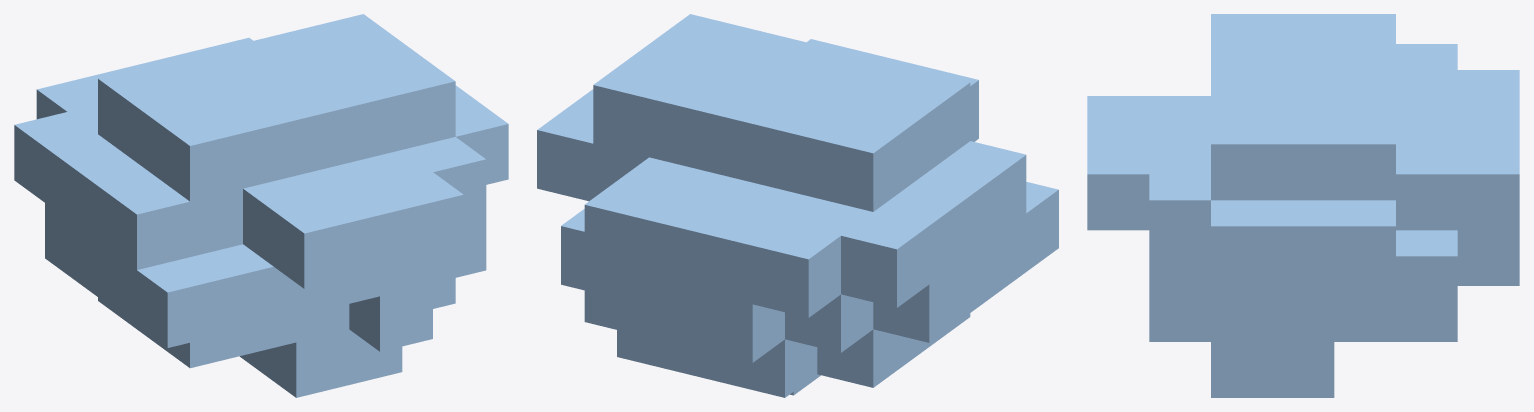
File: ttat.obj
3 views of the same model, side by side, from view 1: azimuth 30°, elevation 25°; view 2: azimuth 150°, elevation 25°; view 3: azimuth 270°, elevation 25° (orthographic). The views are drawn at different scales.
Size of the model in its own units: 0.7 by 0.5 by 0.7.
Materials: 1 (1 with a texture image).
